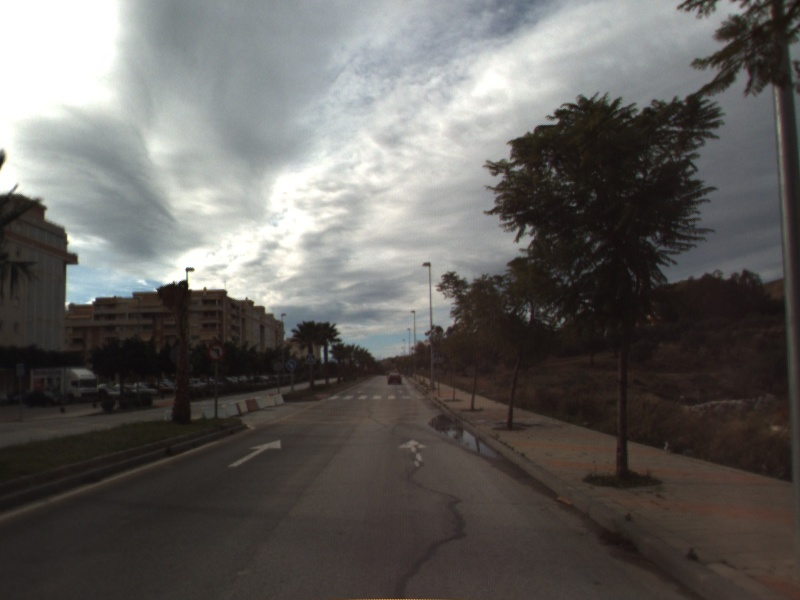STRAIGHT: (226, 437, 283, 469), (396, 436, 430, 470)
